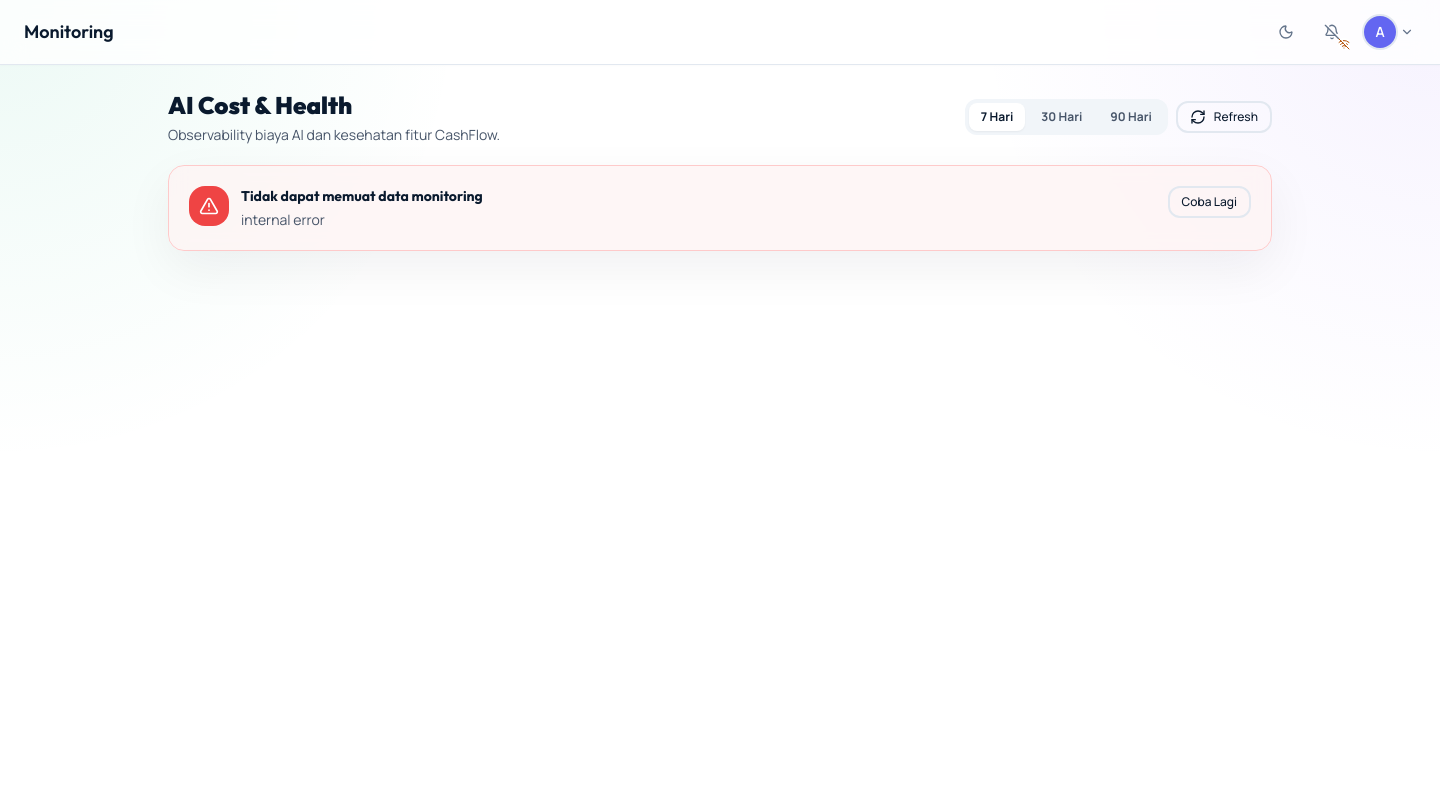
Test: MonitoringPage — error & auth › 500 → error banner + "Coba Lagi" → refetch → sembuh
The width and height of the screenshot is (1440, 810).
Expected: the heading "Tidak dapat memuat data monitoring" is shown, [241,187,483,205]
Expected: the text "internal error" is shown, [241,210,325,229]
Click the button "Coba Lagi": [1209, 202] box [1168,186,1251,218]
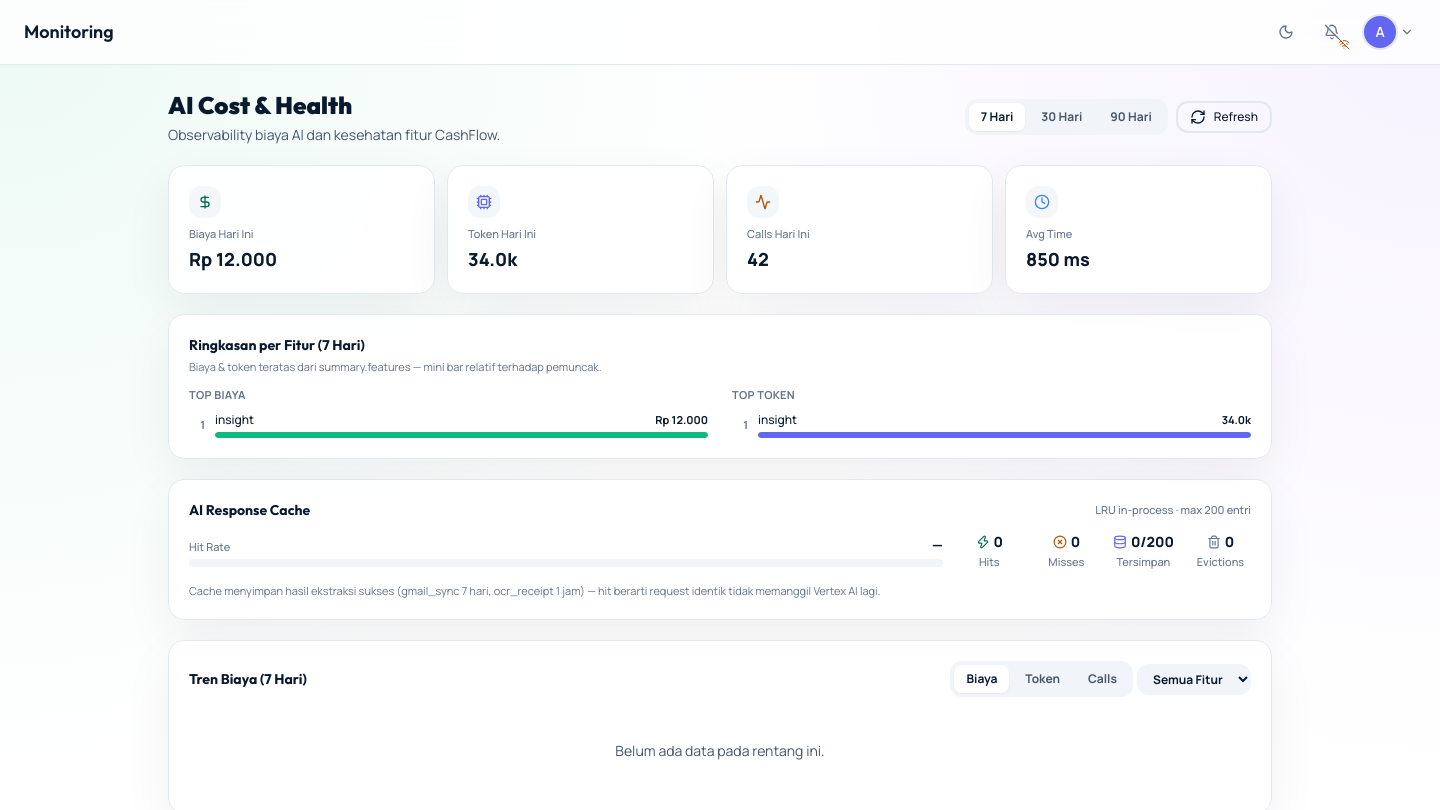
Now the text "Biaya Hari Ini" is shown, box [189,226,254,241]
Now the heading "Tidak dapat memuat data monitoring" is gone
